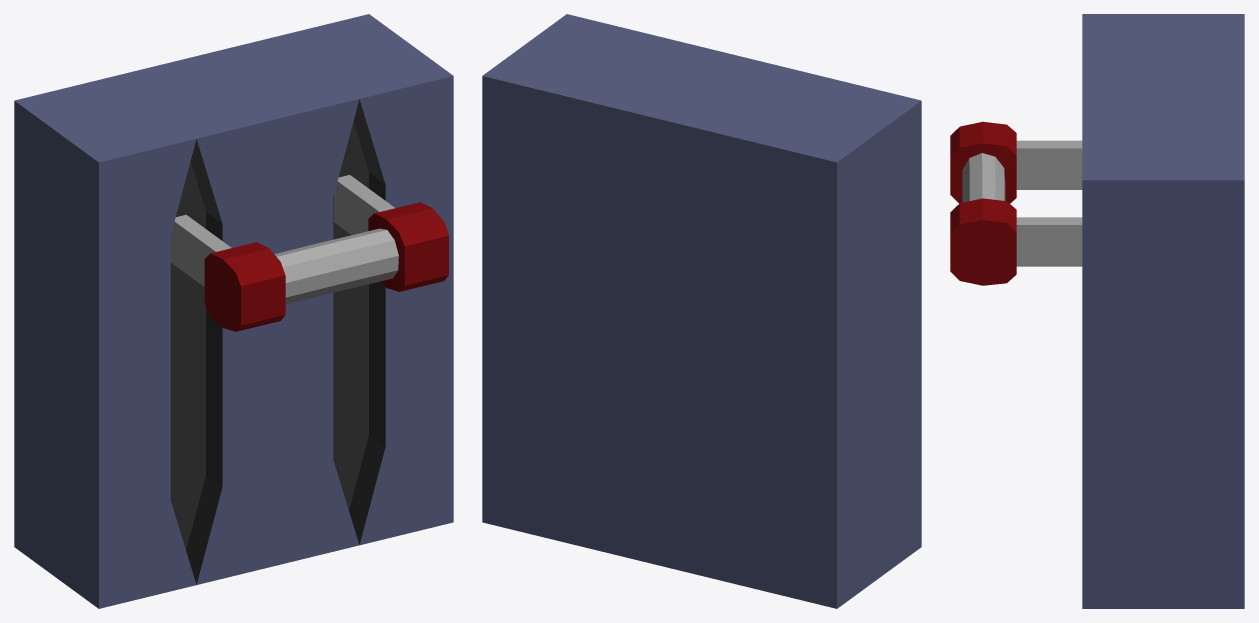
Rendered from power_tumbler.fbx.
The picture shows the model from 3 angles, left to right: view 1: azimuth 30°, elevation 25°; view 2: azimuth 150°, elevation 25°; view 3: azimuth 270°, elevation 25°; orthographic projection. The views are drawn at different scales.
Visible parts, largest first — view 1: Cube.023, Cube.024; view 2: Cube.023; view 3: Cube.023, Cube.024.
Part boxes in pixels (x1=…): Cube.023: x1=14, y1=14, x2=453, y2=608; Cube.024: x1=170, y1=175, x2=448, y2=331; Cube.023: x1=482, y1=14, x2=921, y2=608; Cube.023: x1=1082, y1=14, x2=1244, y2=608; Cube.024: x1=950, y1=121, x2=1082, y2=285.
Bounding box in the file's own units: 38.79 × 46.63 × 29.04.
